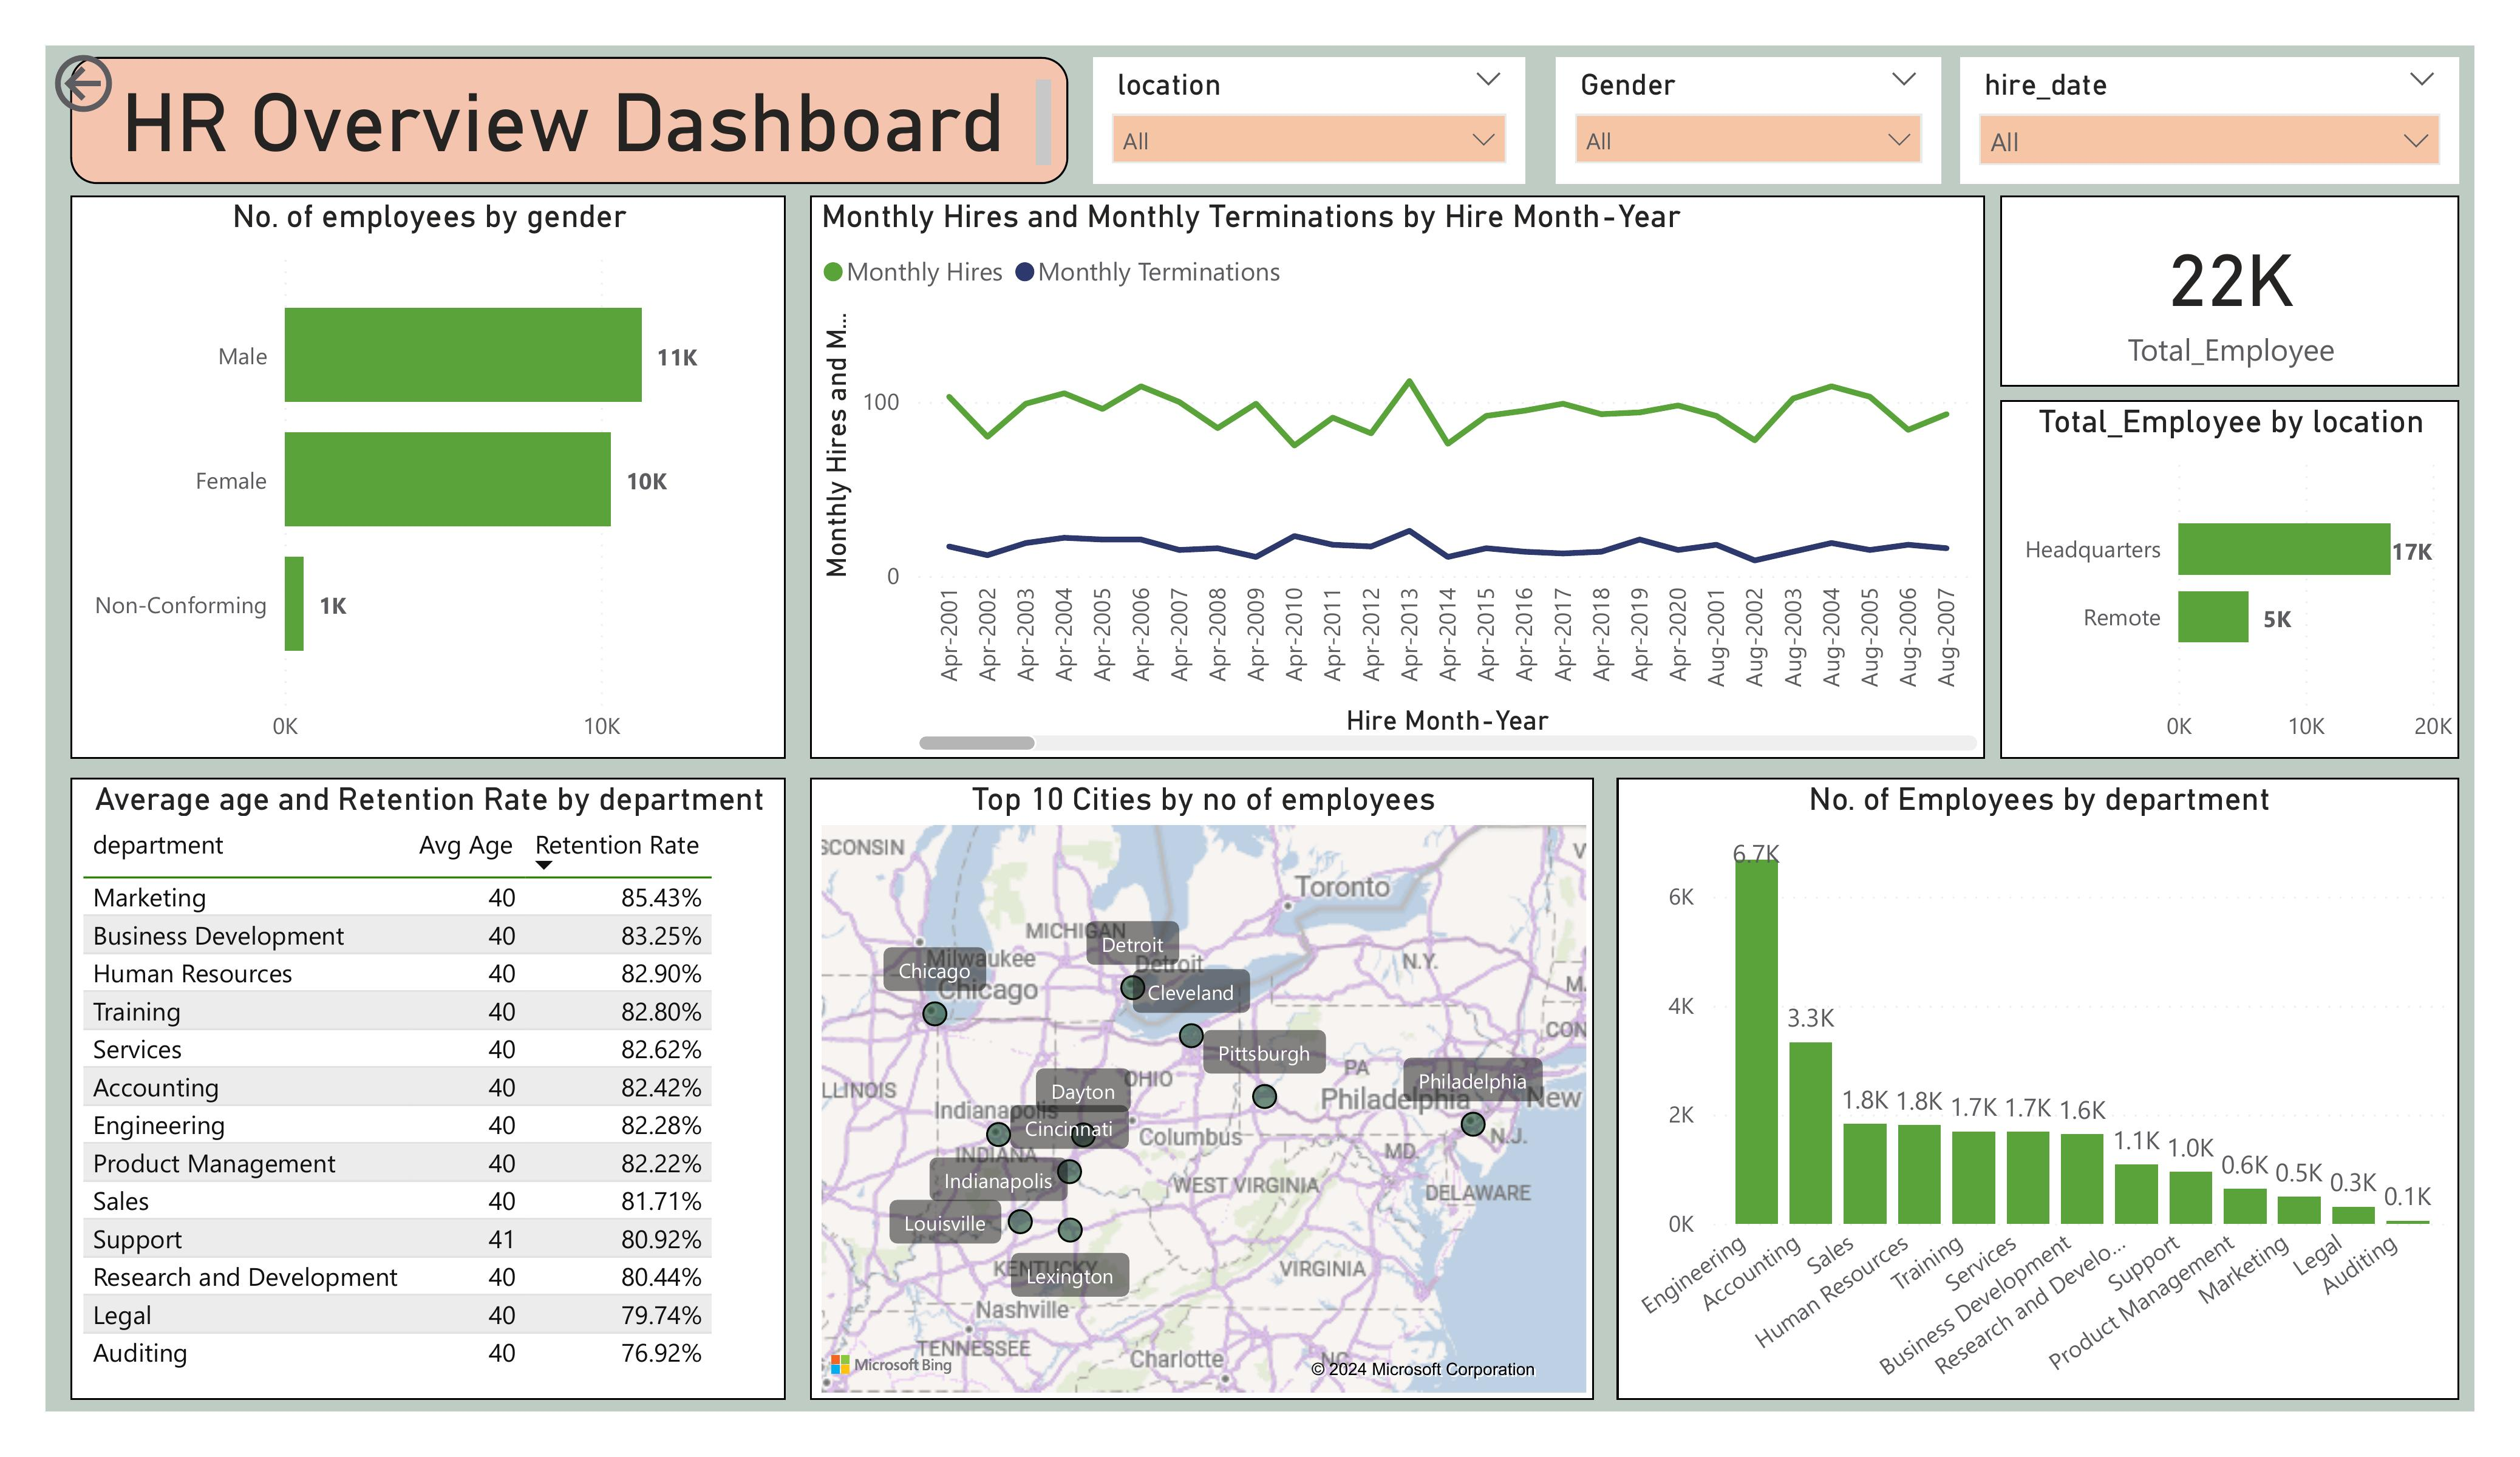

The page's visual inventory and layout, read from the dashboard file:
{"tool":"powerbi","page":{"name":"Page 1","canvas":[1280,720],"ordinal":0},"visuals":[{"type":"textbox","box":[13,5.8,525.6,67.7],"z":0},{"type":"card","fields":{"Values":["Human_Resources_Updated.Total_Employee"]},"box":[1029.6,79.2,241.9,100.8],"z":1000},{"type":"barChart","title":"No. of employees by gender","fields":{"Category":["Human_Resources_Updated.gender"],"Y":["Human_Resources.Total_Employee"]},"box":[13,79.2,377.3,296.6],"z":2000},{"type":"tableEx","title":"Average age and Retention Rate by department","fields":{"Values":["Human_Resources.department","Human_Resources.Avg Age","Human_Resources.RetentionRateByDepartment"]},"box":[13,385.9,377.3,328.3],"z":3000},{"type":"actionButton","box":[0,0,100,40],"z":4000},{"type":"columnChart","title":"No. of  Employees by department","fields":{"Category":["Human_Resources.department"],"Y":["Human_Resources.Total_Employee"]},"box":[828,385.9,443.5,328.3],"z":5000},{"type":"map","title":"Top 10 Cities by no of employees","fields":{"Category":["Human_Resources.location_city"]},"box":[403.2,385.9,413.3,328.3],"z":6000},{"type":"lineChart","fields":{"Category":["Human_Resources.Hire Month-Year","Human_Resources.Termination Month-Year"],"Y":["Human_Resources.Monthly Hires","Human_Resources.Monthly Terminations"]},"box":[403.2,79.2,619.2,296.6],"z":7000},{"type":"slicer","fields":{"Values":["Human_Resources.hire_date"]},"box":[1009.4,5.8,262.1,67.7],"z":8000},{"type":"slicer","fields":{"Values":["Human_Resources.location"]},"box":[551.5,5.8,229,67.7],"z":9000},{"type":"slicer","fields":{"Values":["Human_Resources.gender"]},"box":[796.3,5.8,203,67.7],"z":10000},{"type":"barChart","fields":{"Category":["Human_Resources.location"],"Y":["Human_Resources.Total_Employee"]},"box":[1029.6,187.2,241.9,188.6],"z":11000}]}

Visuals, with their boxes in screenshot pixels (x1, y1, x2, y2):
textbox: [70, 56, 1068, 185]
card - Human_Resources_Updated.Total_Employee: [1999, 195, 2458, 387]
"No. of employees by gender" barChart: [70, 195, 786, 758]
"Average age and Retention Rate by department" tableEx: [70, 778, 786, 1401]
actionButton: [46, 46, 236, 121]
"No. of  Employees by department" columnChart: [1616, 778, 2458, 1401]
"Top 10 Cities by no of employees" map: [811, 778, 1595, 1401]
lineChart - Human_Resources.Hire Month-Year x Human_Resources.Termination Month-Year: [811, 195, 1986, 758]
slicer - Human_Resources.hire_date: [1961, 56, 2458, 185]
slicer - Human_Resources.location: [1092, 56, 1527, 185]
slicer - Human_Resources.gender: [1556, 56, 1942, 185]
barChart - Human_Resources.location x Human_Resources.Total_Employee: [1999, 401, 2458, 758]
